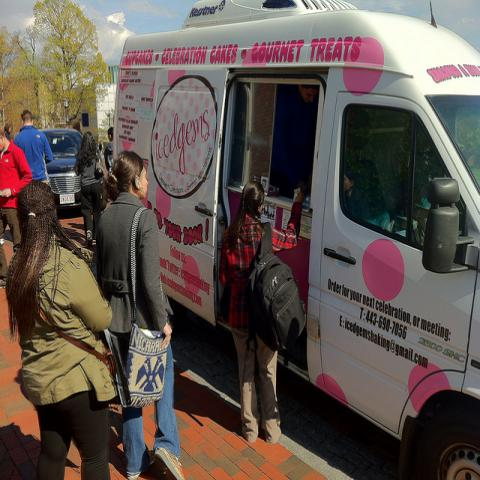car: (39, 127, 107, 213)
truck: (115, 1, 480, 474)
